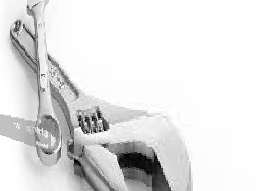wrench: (6, 17, 203, 191)
